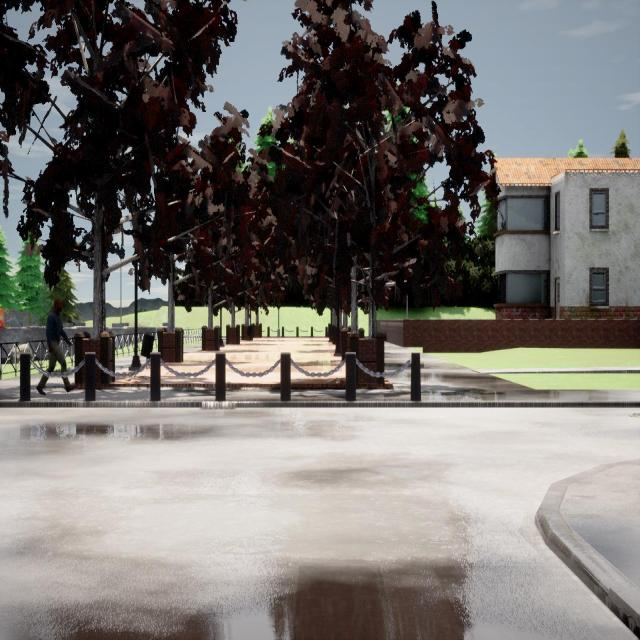Pedestrian: (36, 298, 76, 396)
